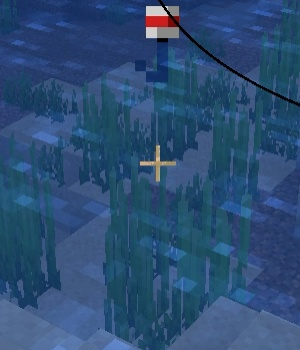up: (135, 3, 183, 88)
